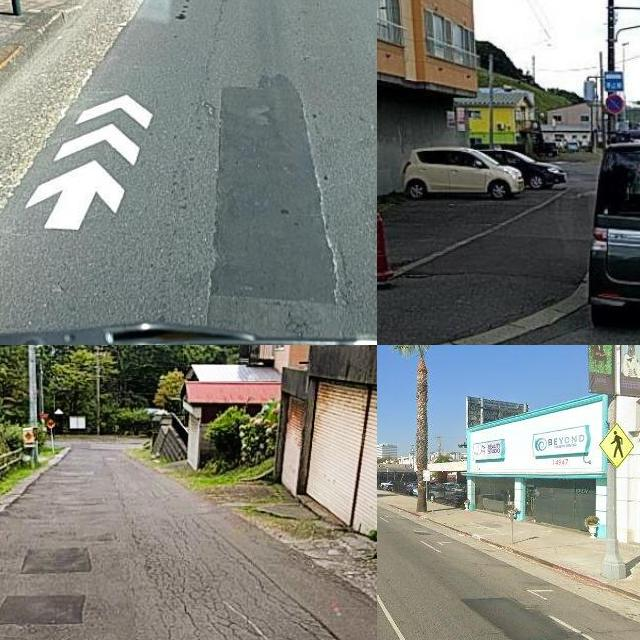Retak Buaya: (132, 524, 334, 640)
Sambungan: (206, 72, 338, 303), (465, 595, 586, 640), (13, 540, 106, 582), (0, 595, 88, 627)
